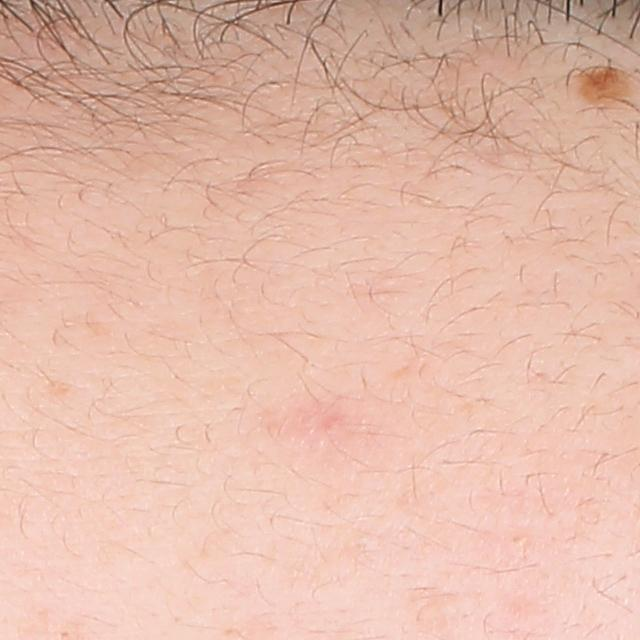nevus: (569, 64, 628, 110)
